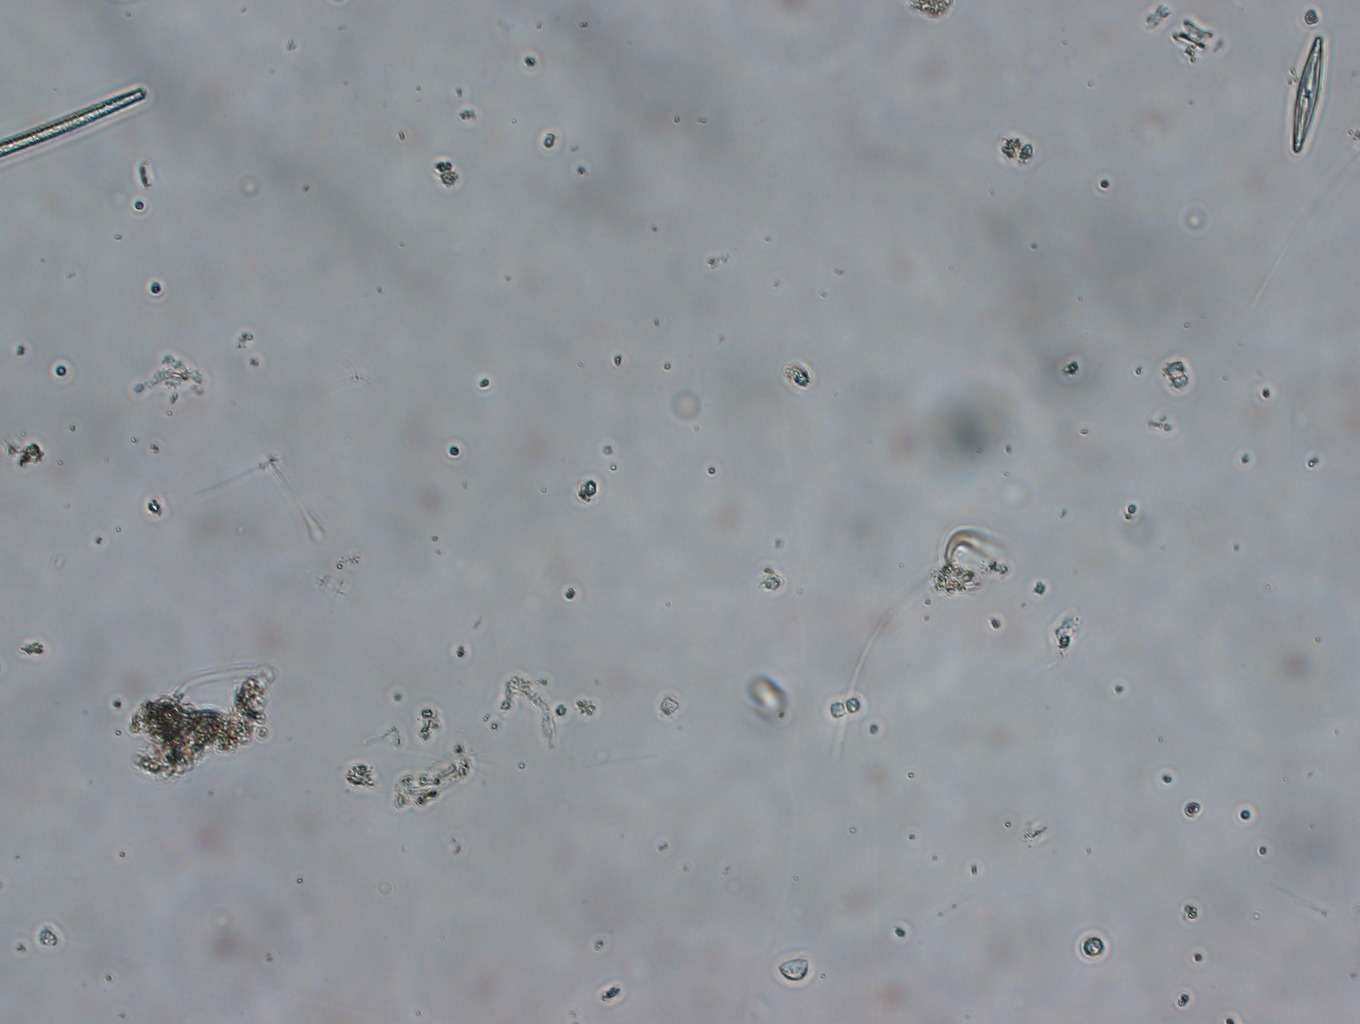navicula: (1279, 25, 1331, 157)
